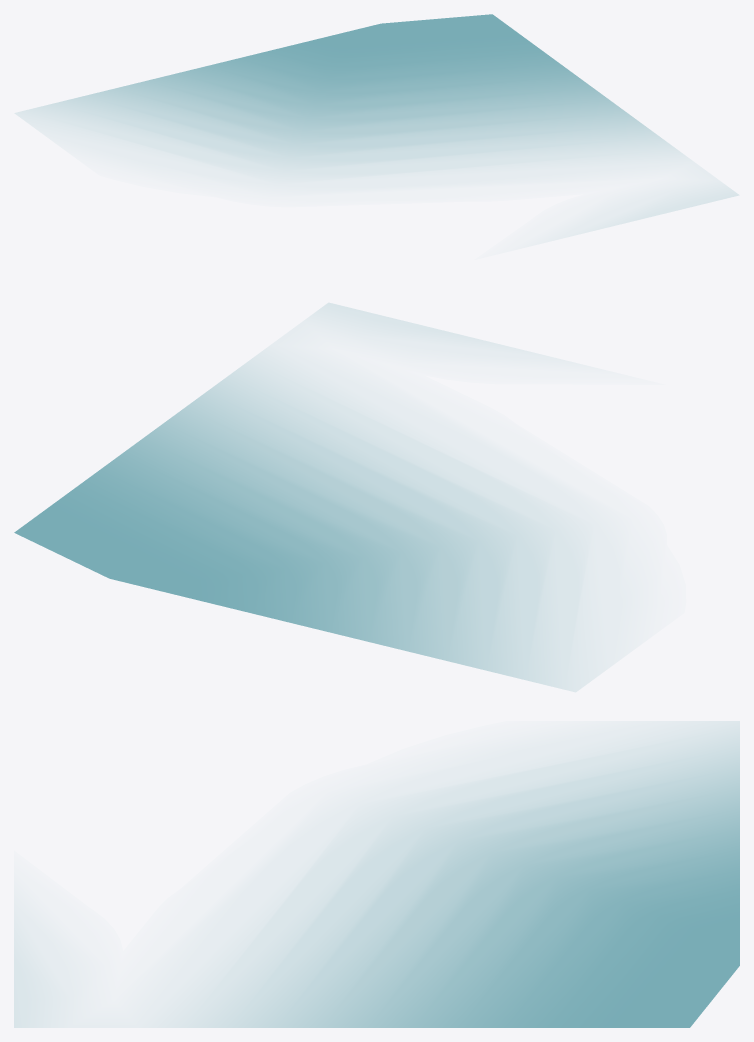
3 renders of one model, top to bottom at view 1: azimuth 30°, elevation 25°; view 2: azimuth 150°, elevation 25°; view 3: azimuth 270°, elevation 25°, orthographic. The views are drawn at different scales.
Parts seen in each view (by area): view 1: city; view 2: city; view 3: city.
Part boxes in pixels (bbox=[...]): city: bbox=[15, 14, 738, 232]; city: bbox=[14, 303, 593, 691]; city: bbox=[14, 721, 739, 1027].
Size of the model in its own units: 500 by 0 by 500.
